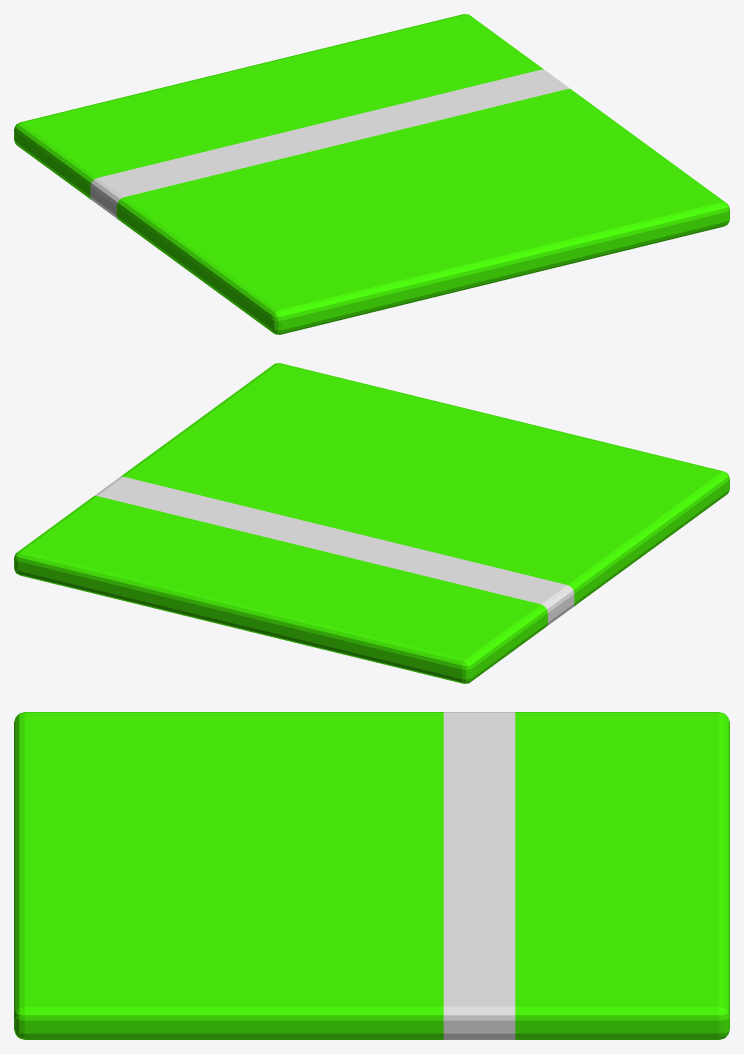
File: Finish Platform.fbx
3 views of the same model, one above another, from view 1: azimuth 30°, elevation 25°; view 2: azimuth 150°, elevation 25°; view 3: azimuth 270°, elevation 25° (orthographic). The views are drawn at different scales.
Parts seen in each view (by area): view 1: Finish Platform; view 2: Finish Platform; view 3: Finish Platform.
Boxes of the visible parts, bbox=[...] form: Finish Platform: bbox=[14, 14, 729, 334]; Finish Platform: bbox=[14, 363, 729, 683]; Finish Platform: bbox=[14, 712, 729, 1039].
Bounding box in the file's own units: 1000 × 50 × 1000.
